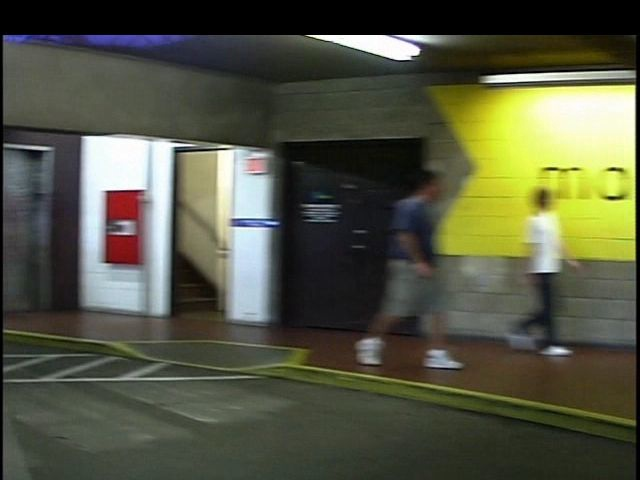person: (338, 166, 454, 374), (478, 177, 568, 362)
